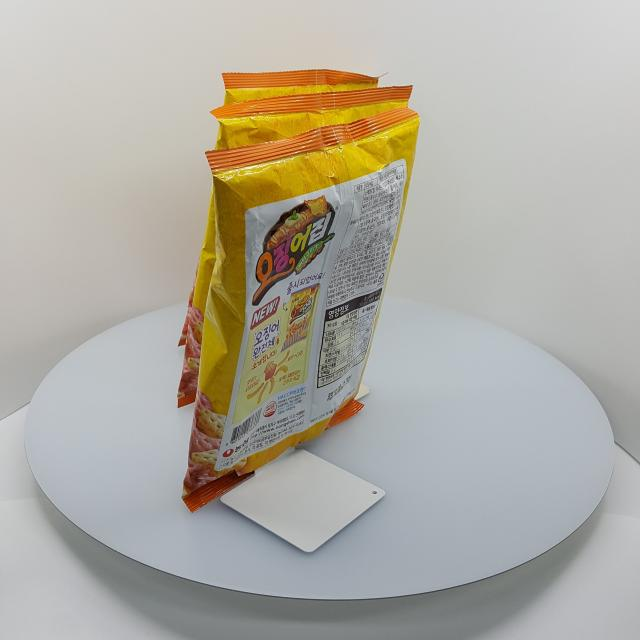-83G: (183, 107, 420, 514)
